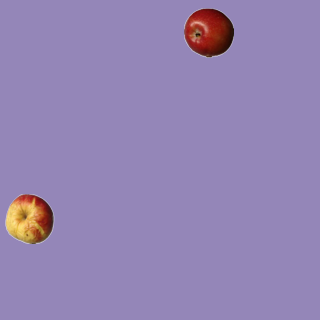Apple Braeburn: (183, 7, 233, 57)
Apple Red Yellow 1: (4, 193, 54, 243)
